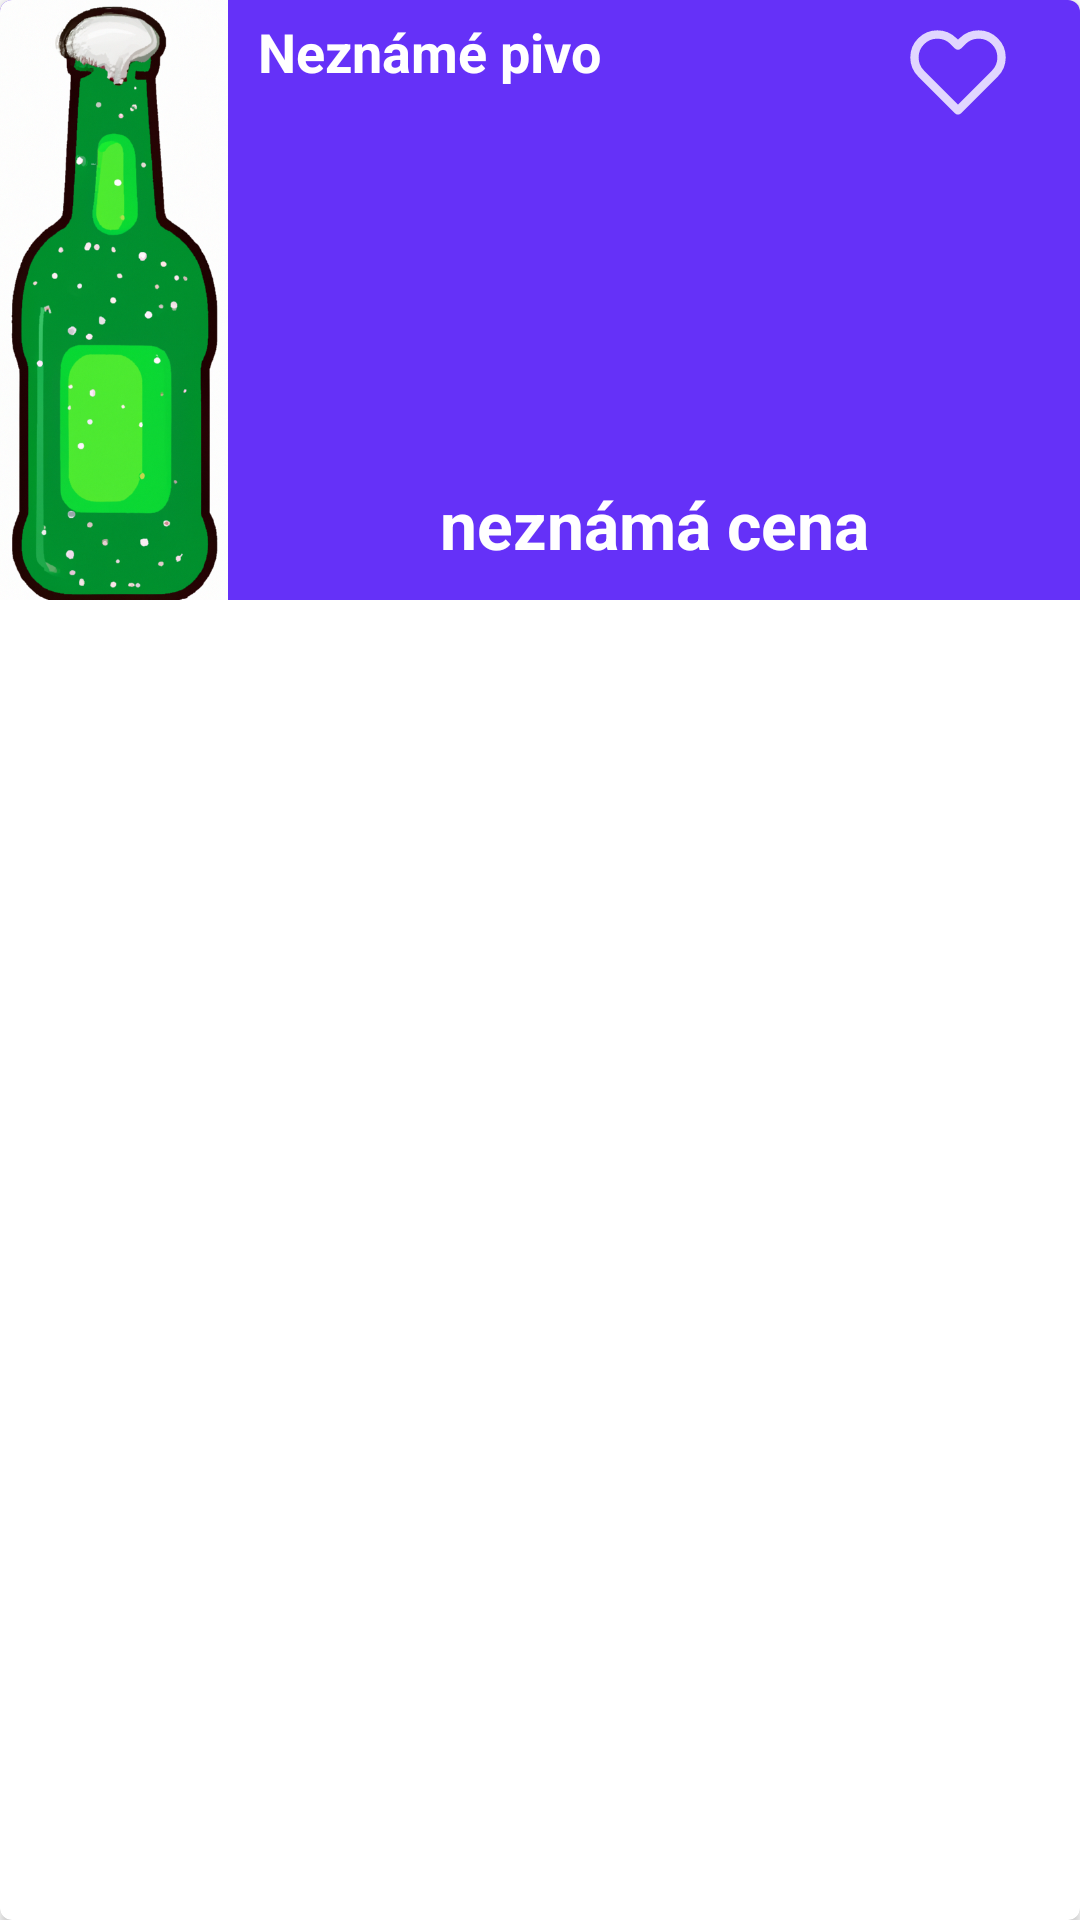

Point at icon controls on the screen. Image size 1080 x 1920, points as [x,y].
heart: [958,72]
